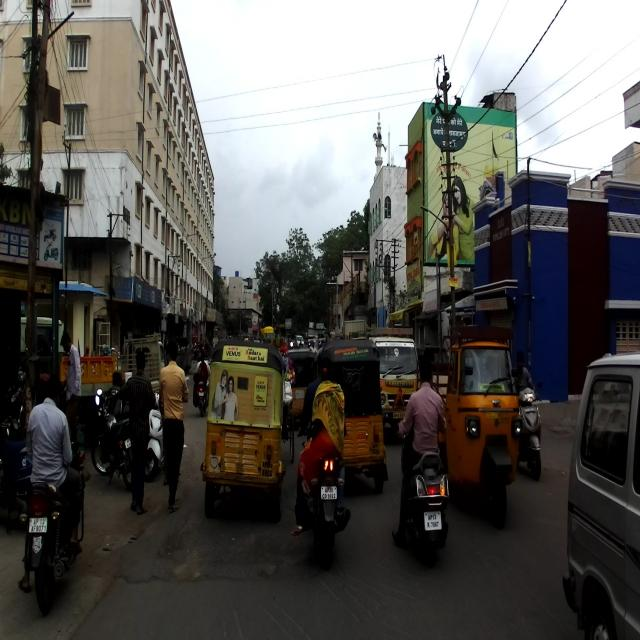autorickshaw: (414, 320, 524, 532), (198, 335, 290, 522), (316, 339, 388, 494)
car: (560, 348, 640, 640)
motorcycle: (19, 409, 92, 616), (296, 423, 351, 572), (88, 384, 134, 495), (196, 378, 208, 418)
scooter: (398, 412, 452, 569), (515, 378, 544, 482), (144, 390, 164, 486)
truck: (367, 331, 428, 441)
